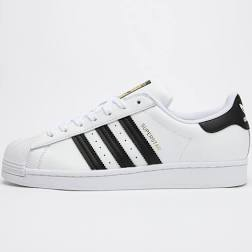Gucci: (6, 19, 216, 246), (11, 91, 201, 247)
